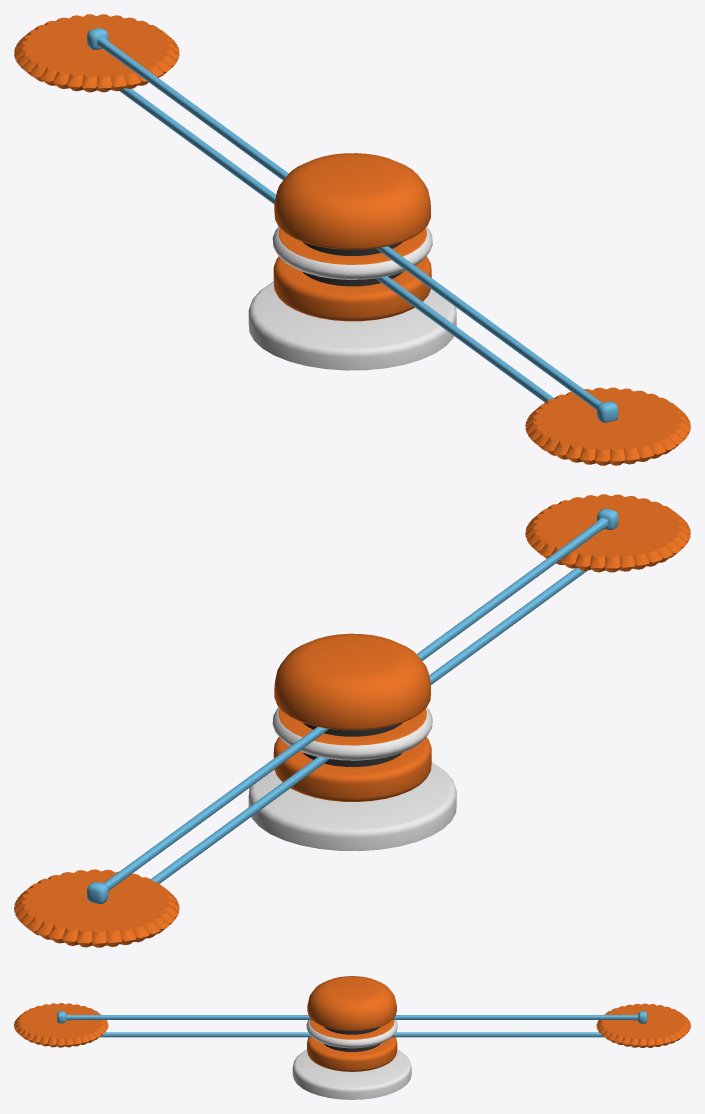
File: rotation_saw.fbx
3 renders of one model, top to bottom at view 1: azimuth 30°, elevation 25°; view 2: azimuth 150°, elevation 25°; view 3: azimuth 270°, elevation 25°, orthographic. The views are drawn at different scales.
Parts seen in each view (by area): view 1: rotation_saw, saw5, stick, saw4; view 2: rotation_saw, stick, saw4, saw5; view 3: rotation_saw, stick, saw4, saw5.
Part boxes in pixels (x1,y1,x2,y2): rotation_saw: (248, 153, 456, 370); saw5: (525, 387, 690, 465); stick: (87, 28, 618, 422); saw4: (14, 14, 179, 92); rotation_saw: (248, 633, 456, 851); stick: (87, 508, 618, 903); saw4: (14, 869, 179, 947); saw5: (525, 494, 690, 572); rotation_saw: (292, 976, 411, 1099); stick: (57, 1011, 647, 1037); saw4: (596, 1003, 690, 1047); saw5: (14, 1003, 108, 1047).
Size of the model in its own units: 0.8 by 0.6403 by 4.56.
